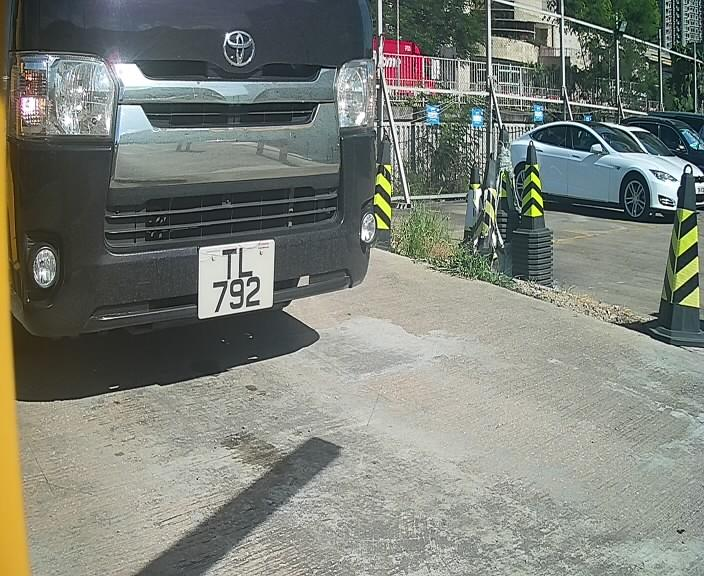License Plate: (189, 240, 283, 317)
